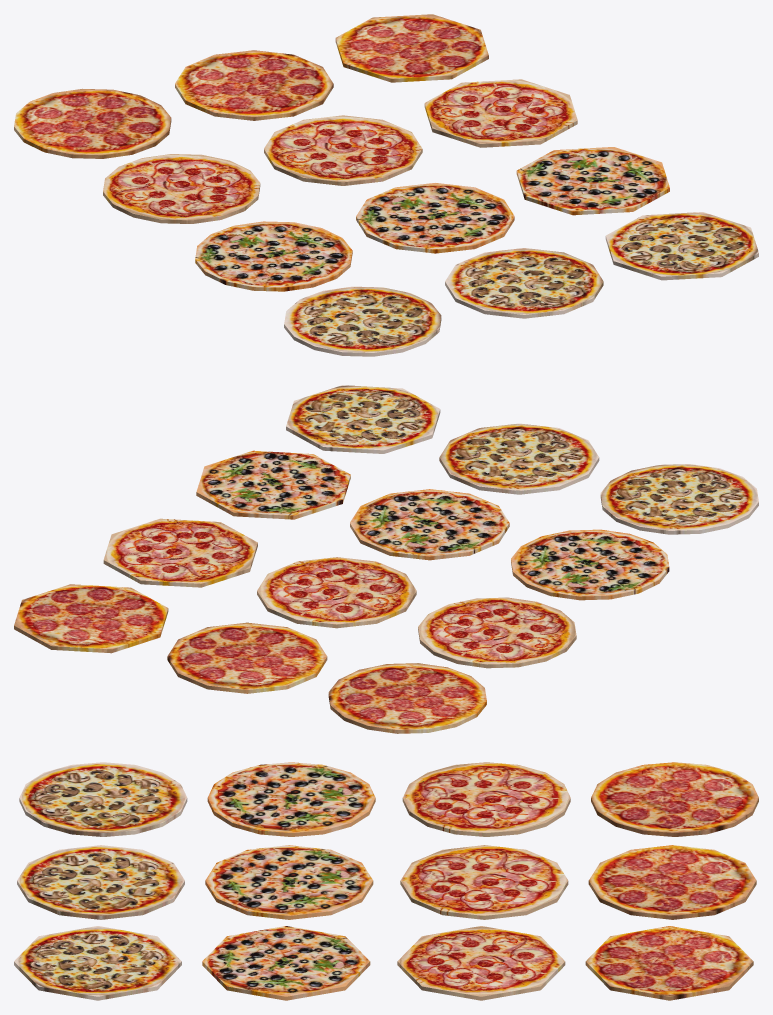
The model's file is pizza.glb.
3 views of the same model, one above another, from view 1: azimuth 30°, elevation 25°; view 2: azimuth 150°, elevation 25°; view 3: azimuth 270°, elevation 25° (orthographic). The views are drawn at different scales.
Visible parts, largest first — view 1: pizza_pizza1MAT_01_pizza1_0, pizza_pizza2MAT_01_pizza2_0, pizza_pizza4MAT_01_pizza4_0, pizza_pizza3MAT_01_pizza3_0; view 2: pizza_pizza4MAT_01_pizza4_0, pizza_pizza1MAT_01_pizza1_0, pizza_pizza2MAT_01_pizza2_0, pizza_pizza3MAT_01_pizza3_0; view 3: pizza_pizza2MAT_01_pizza2_0, pizza_pizza3MAT_01_pizza3_0, pizza_pizza4MAT_01_pizza4_0, pizza_pizza1MAT_01_pizza1_0.
Boxes of the visible parts, bbox=[...] form: pizza_pizza1MAT_01_pizza1_0: bbox=[14, 14, 488, 158]; pizza_pizza2MAT_01_pizza2_0: bbox=[103, 79, 577, 223]; pizza_pizza4MAT_01_pizza4_0: bbox=[284, 212, 758, 356]; pizza_pizza3MAT_01_pizza3_0: bbox=[195, 147, 669, 291]; pizza_pizza4MAT_01_pizza4_0: bbox=[286, 385, 758, 534]; pizza_pizza1MAT_01_pizza1_0: bbox=[14, 584, 486, 733]; pizza_pizza2MAT_01_pizza2_0: bbox=[103, 518, 576, 668]; pizza_pizza3MAT_01_pizza3_0: bbox=[196, 450, 669, 600]; pizza_pizza2MAT_01_pizza2_0: bbox=[397, 762, 570, 1000]; pizza_pizza3MAT_01_pizza3_0: bbox=[202, 762, 375, 1000]; pizza_pizza4MAT_01_pizza4_0: bbox=[14, 762, 187, 1000]; pizza_pizza1MAT_01_pizza1_0: bbox=[585, 762, 758, 1000].
Size of the model in its own units: 6.61 by 0.0519 by 8.87.
Materials: 4 (4 with a texture image).
